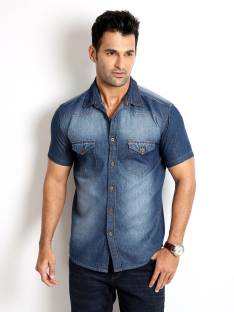shirt: (29, 69, 210, 270)
